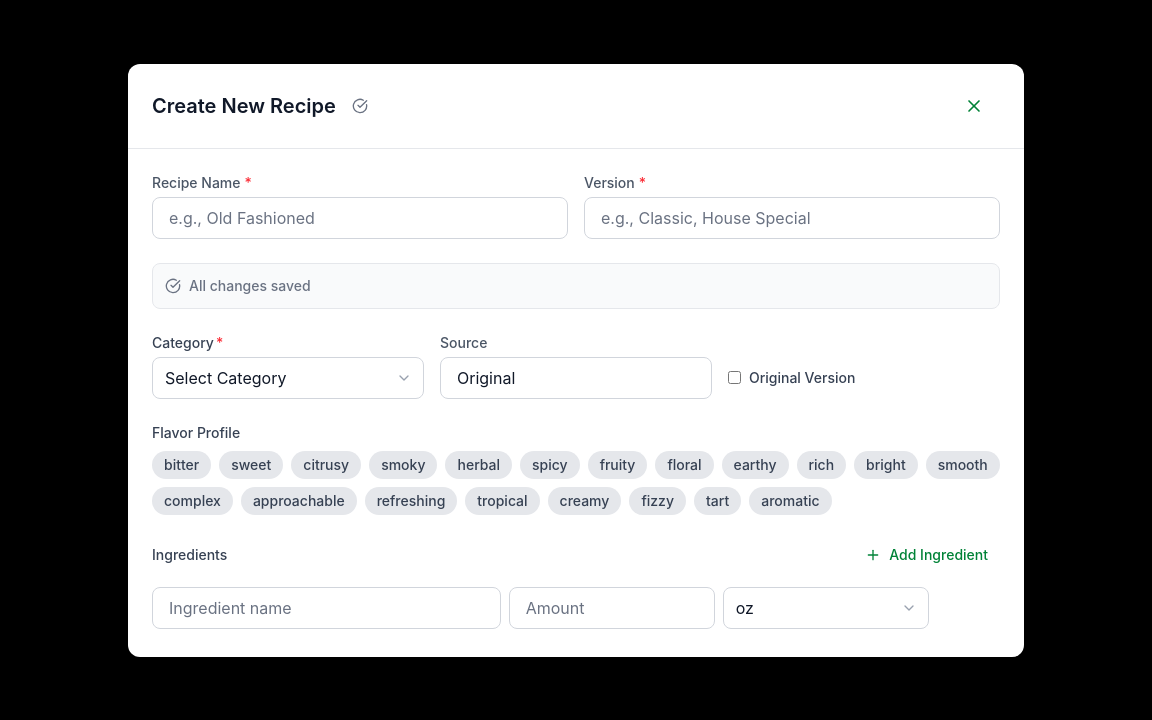
Test: RecipeModal Component › prevents closing when form has unsaved changes
This screenshot has width=1152, height=720.
Make changes to form to trigger unsaved changes state
Type "Changed Name" into the field with placeholder "e.g., Old Fashioned" at (360, 218), box [152,196,568,238]
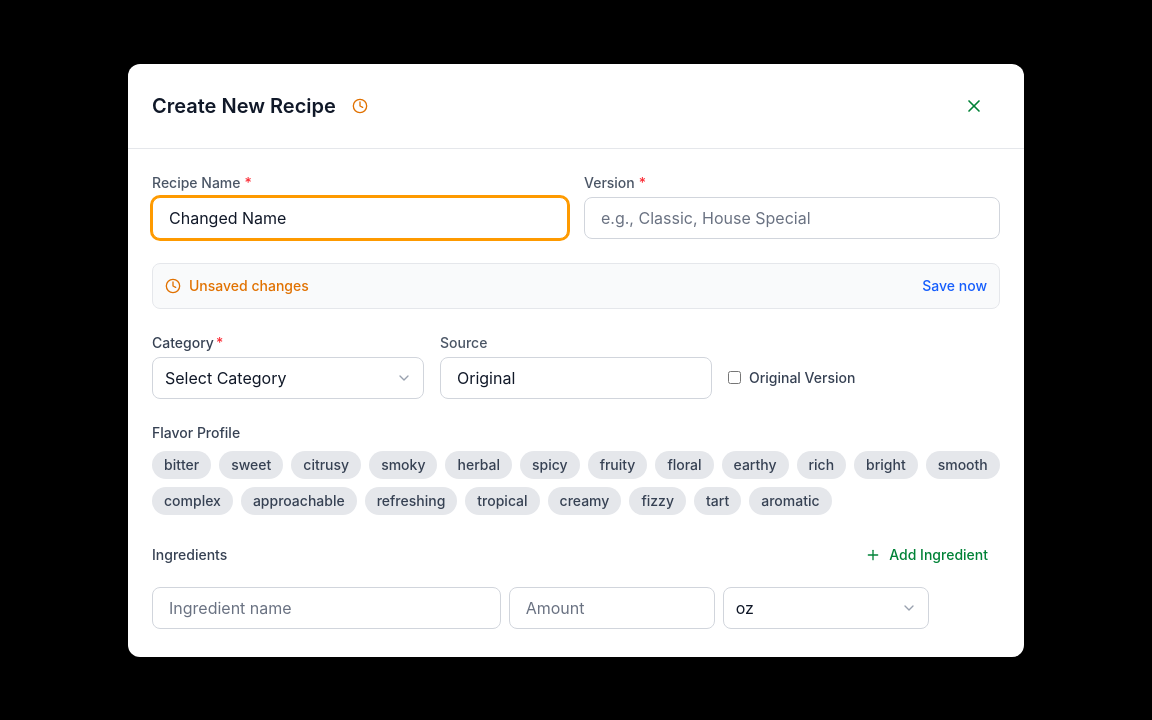
Try to close by clicking backdrop
Click the element that starts with "Create New Recipe" at (69, 360), box [0,0,1151,719]
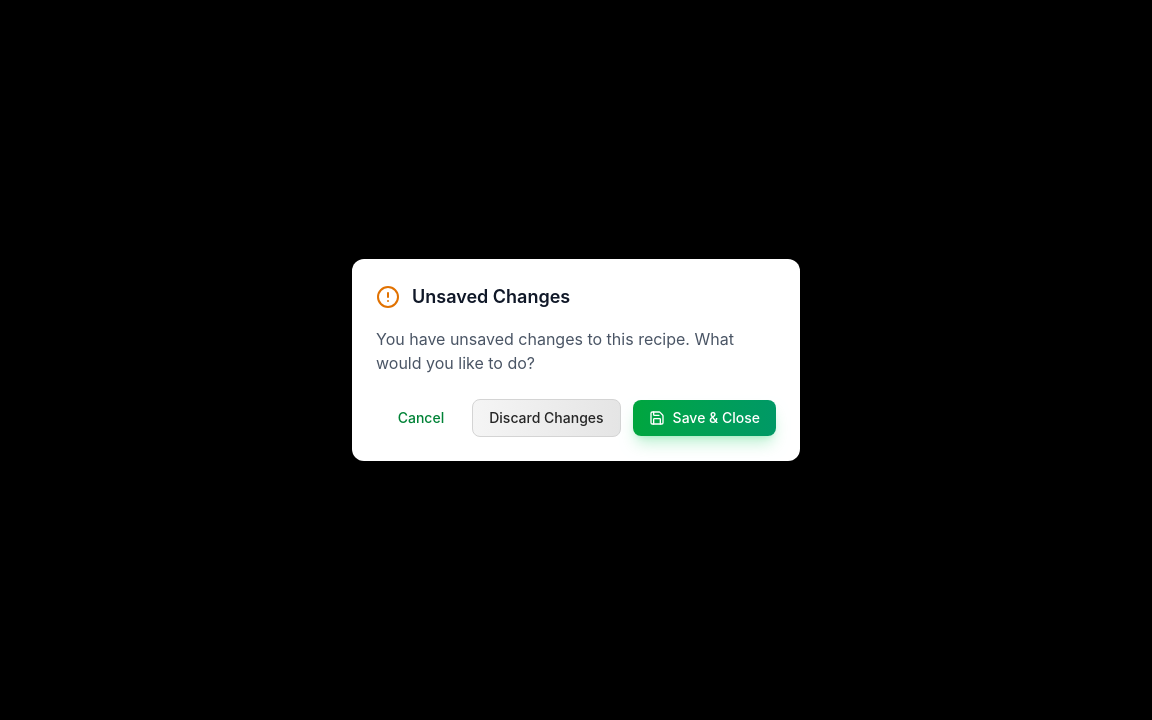
Result: the heading "Unsaved Changes" is shown at [412,283,570,311]
